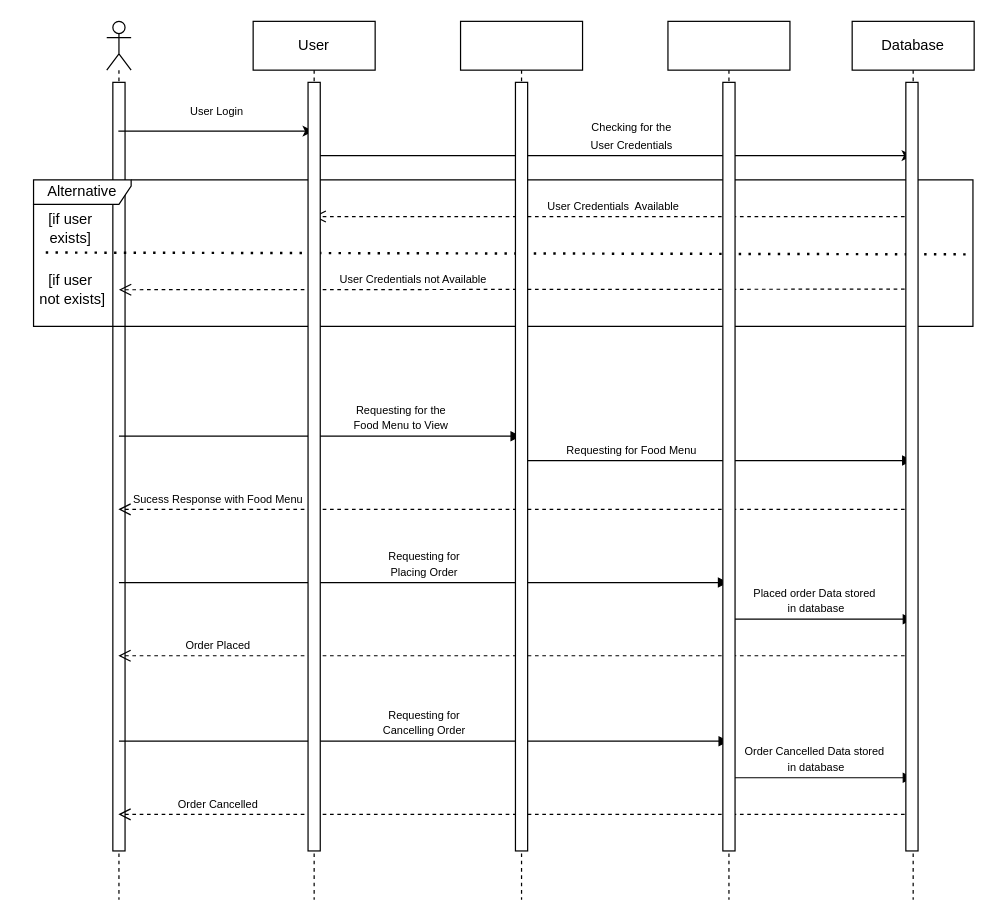
Some shapes in this 996 by 921 pixel diagram are drawn without their labels. Each missing label, with the box of its shape:
Food: (459, 20, 583, 900)
Order: (667, 20, 790, 900)
